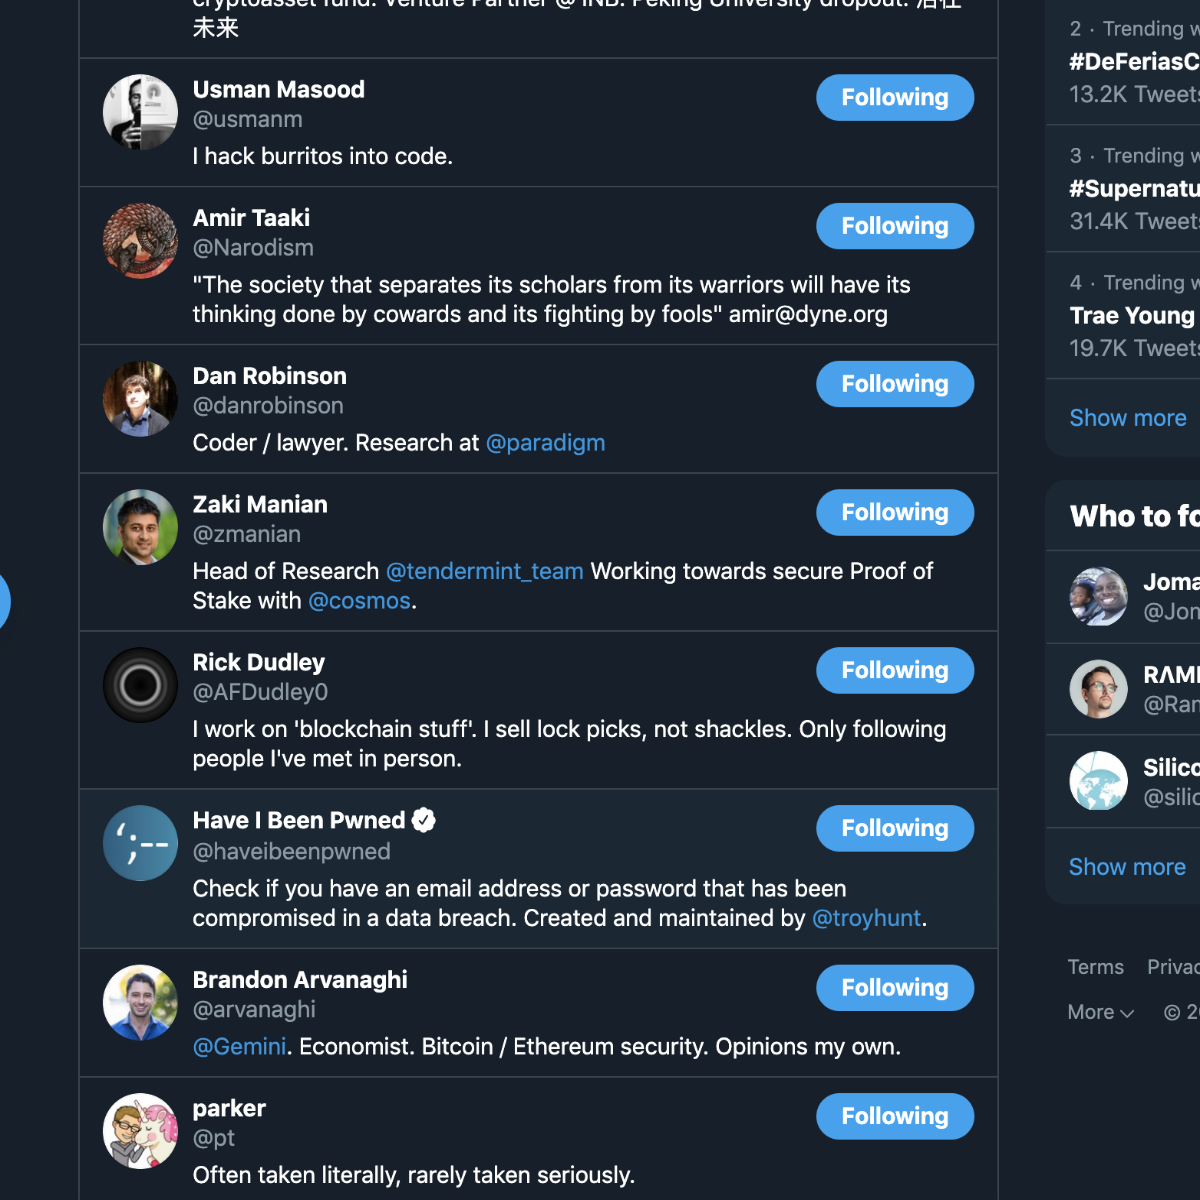button: (816, 486, 979, 538), (816, 962, 979, 1014), (812, 645, 976, 697), (814, 73, 977, 124), (815, 199, 978, 251), (815, 359, 978, 411), (813, 801, 976, 853), (813, 1089, 976, 1141)
